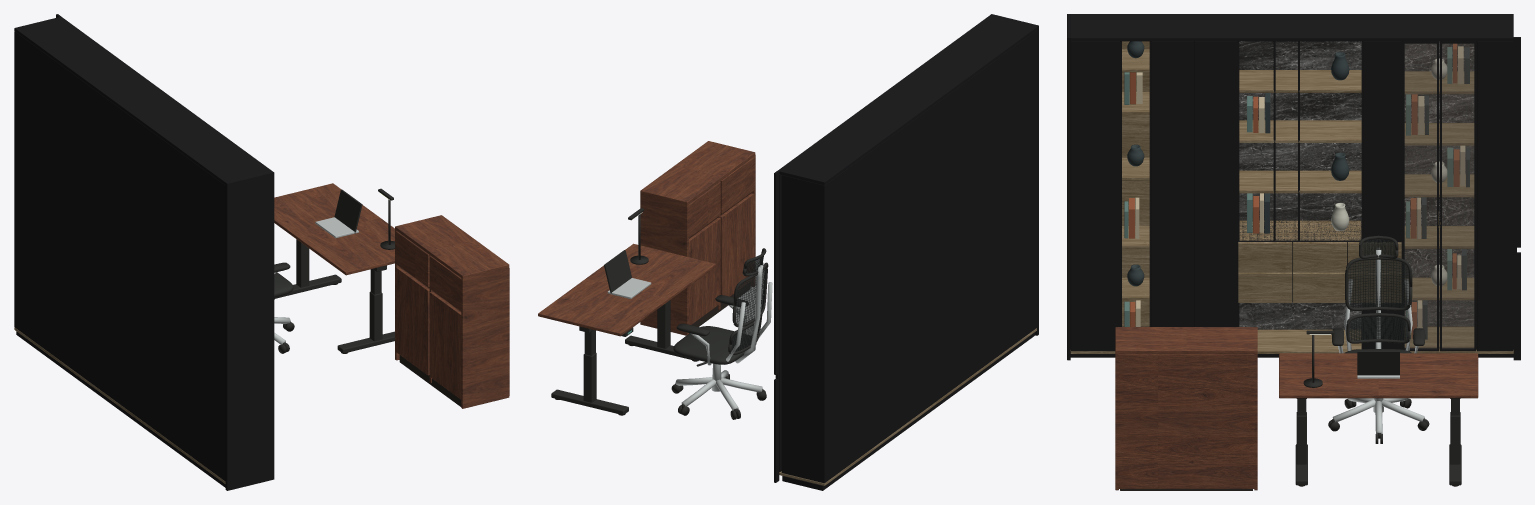
Rendered from study-v18.glb.
3 views of the same model, side by side, from view 1: azimuth 30°, elevation 25°; view 2: azimuth 150°, elevation 25°; view 3: azimuth 270°, elevation 25° (orthographic). The views are drawn at different scales.
Visible parts, largest first — view 1: Furniture_study_bookcase, Furniture_study_side_cabinet, Furniture_study_standing_desk, Furniture_study_desktop_items, Furniture_study_task_chair; view 2: Furniture_study_bookcase, Furniture_study_side_cabinet, Furniture_study_standing_desk, Furniture_study_task_chair, Furniture_study_desktop_items; view 3: Furniture_study_bookcase, Furniture_study_side_cabinet, Furniture_study_standing_desk, Furniture_study_task_chair, Furniture_study_desktop_items.
Part boxes in pixels (bbox=[...]): Furniture_study_bookcase: bbox=[14, 14, 274, 490]; Furniture_study_side_cabinet: bbox=[395, 215, 509, 408]; Furniture_study_standing_desk: bbox=[274, 183, 394, 353]; Furniture_study_desktop_items: bbox=[315, 188, 394, 249]; Furniture_study_task_chair: bbox=[274, 262, 294, 353]; Furniture_study_bookcase: bbox=[774, 14, 1038, 490]; Furniture_study_side_cabinet: bbox=[640, 141, 755, 335]; Furniture_study_standing_desk: bbox=[538, 243, 715, 415]; Furniture_study_task_chair: bbox=[671, 248, 772, 419]; Furniture_study_desktop_items: bbox=[604, 208, 651, 298]; Furniture_study_bookcase: bbox=[1067, 14, 1520, 360]; Furniture_study_side_cabinet: bbox=[1115, 327, 1257, 490]; Furniture_study_standing_desk: bbox=[1279, 353, 1478, 486]; Furniture_study_task_chair: bbox=[1328, 235, 1429, 443]; Furniture_study_desktop_items: bbox=[1303, 330, 1399, 387].
Bounding box in the file's own units: 2.6 × 2.5 × 3.19.
21 materials, 4 textured.
